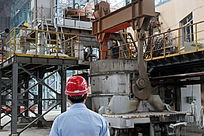red: (63, 74, 91, 107)
